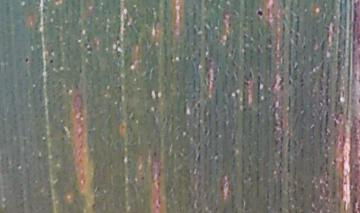tarspot: (255, 6, 266, 22), (22, 55, 33, 67), (47, 56, 56, 67)
